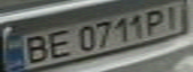0: (72, 22, 100, 52)
1: (112, 15, 133, 43), (127, 11, 148, 38)
7: (93, 19, 115, 48)
B: (15, 33, 54, 65)
E: (39, 27, 75, 60)
I: (157, 2, 190, 30)
P: (139, 7, 172, 35)
